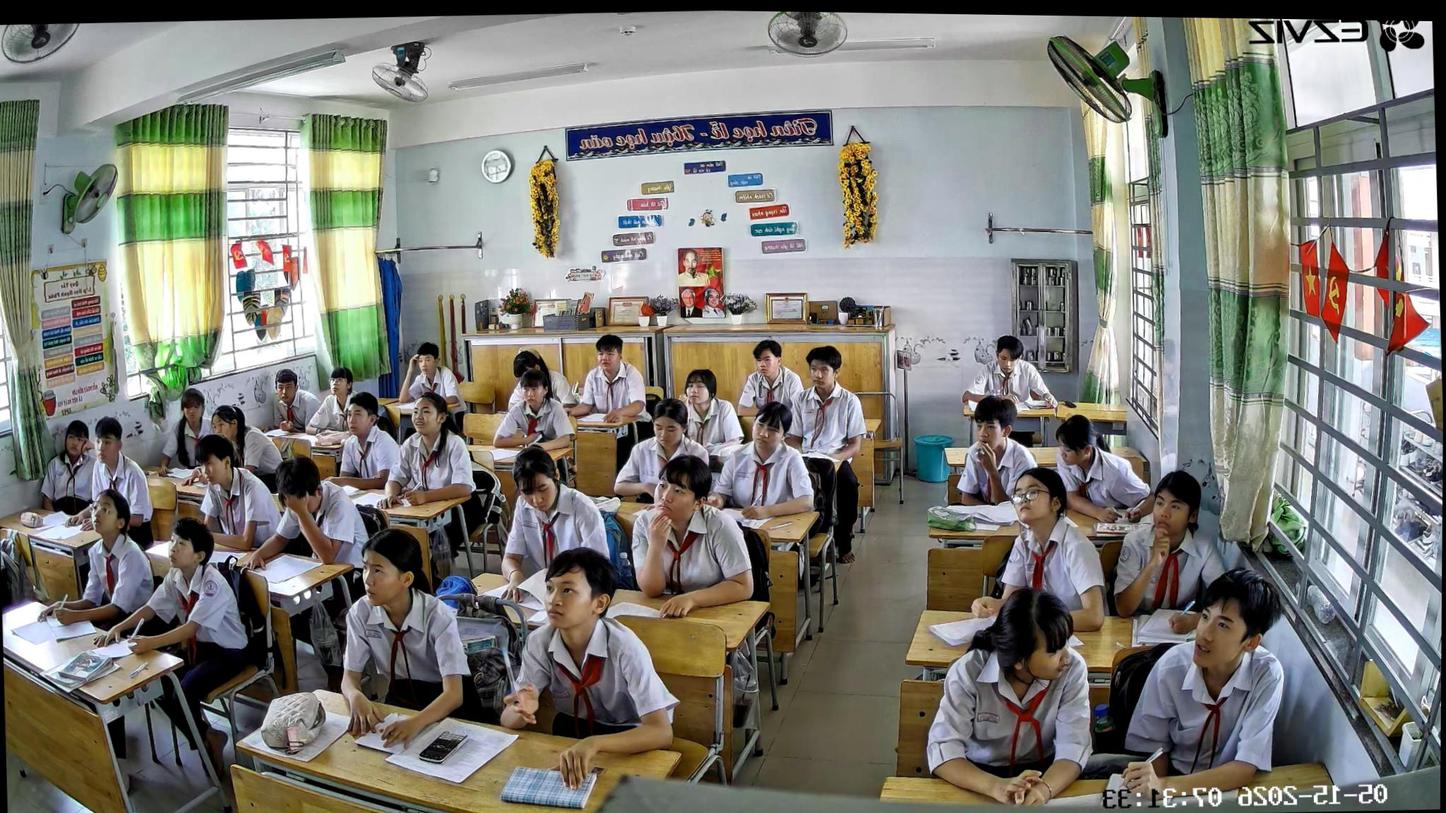person: (495, 543, 684, 794), (1107, 564, 1292, 801), (919, 586, 1098, 811), (330, 525, 484, 751), (89, 514, 253, 688), (966, 466, 1108, 637), (1108, 468, 1239, 640), (627, 451, 756, 620), (781, 344, 872, 565), (494, 443, 615, 605), (33, 485, 158, 632), (372, 389, 482, 555), (231, 452, 369, 581), (697, 399, 818, 524), (62, 414, 157, 552), (179, 431, 283, 555), (1051, 412, 1155, 528), (610, 395, 709, 508), (953, 394, 1041, 507), (315, 391, 405, 494), (559, 332, 648, 427), (959, 332, 1060, 415), (489, 367, 578, 460), (141, 386, 217, 478), (31, 418, 99, 517), (680, 367, 746, 467), (207, 402, 283, 482), (395, 339, 464, 426), (733, 339, 806, 421), (504, 349, 581, 420), (304, 365, 363, 437), (268, 366, 322, 435)
